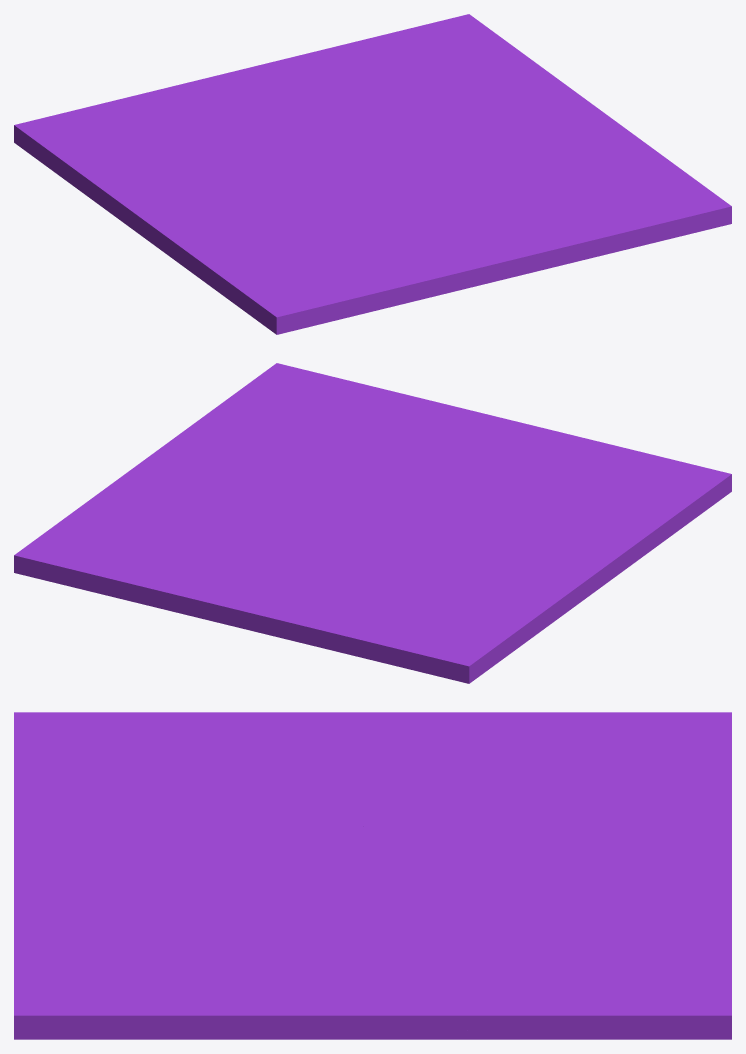
Rendered from Platform_20_chunks.fbx.
3 views of the same model, one above another, from view 1: azimuth 30°, elevation 25°; view 2: azimuth 150°, elevation 25°; view 3: azimuth 270°, elevation 25° (orthographic). The views are drawn at different scales.
Visible parts, largest first — view 1: Platform_20_1, Platform_20_0, Platform_20_6, Platform_20_8, Platform_20_4, Platform_20_7, Platform_20_5, Platform_20_9, Platform_20_2, Platform_20_3; view 2: Platform_20_1, Platform_20_0, Platform_20_6, Platform_20_8, Platform_20_4, Platform_20_7, Platform_20_5, Platform_20_9, Platform_20_2, Platform_20_3; view 3: Platform_20_1, Platform_20_0, Platform_20_6, Platform_20_4, Platform_20_8, Platform_20_5, Platform_20_7, Platform_20_9, Platform_20_2, Platform_20_3.
Part boxes in pixels (<box>): Platform_20_1: <box>14,61,363,256</box>; Platform_20_0: <box>274,14,579,167</box>; Platform_20_6: <box>219,225,514,334</box>; Platform_20_8: <box>384,183,642,280</box>; Platform_20_4: <box>528,155,731,249</box>; Platform_20_7: <box>166,185,356,296</box>; Platform_20_5: <box>503,95,661,166</box>; Platform_20_9: <box>310,166,460,225</box>; Platform_20_2: <box>399,126,543,187</box>; Platform_20_3: <box>478,178,535,201</box>; Platform_20_1: <box>194,517,624,683</box>; Platform_20_0: <box>14,474,378,616</box>; Platform_20_6: <box>489,416,731,529</box>; Platform_20_8: <box>365,385,494,480</box>; Platform_20_4: <box>207,363,365,451</box>; Platform_20_7: <box>445,491,679,569</box>; Platform_20_5: <box>124,414,288,486</box>; Platform_20_9: <box>365,473,501,527</box>; Platform_20_2: <box>227,451,365,503</box>; Platform_20_3: <box>321,437,365,465</box>; Platform_20_1: <box>317,712,731,885</box>; Platform_20_0: <box>349,859,731,1039</box>; Platform_20_6: <box>14,712,218,870</box>; Platform_20_4: <box>14,920,254,1039</box>; Platform_20_8: <box>14,829,262,955</box>; Platform_20_5: <box>184,949,490,1039</box>; Platform_20_7: <box>171,712,360,818</box>; Platform_20_9: <box>199,815,376,895</box>; Platform_20_2: <box>231,875,394,955</box>; Platform_20_3: <box>161,901,240,932</box>.
Bounding box in the file's own units: 810 × 29.87 × 810.
